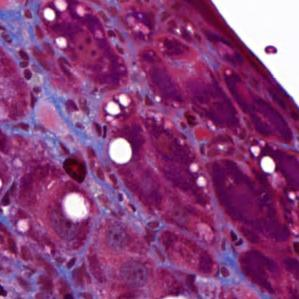inflammation: (62, 155, 90, 184)
